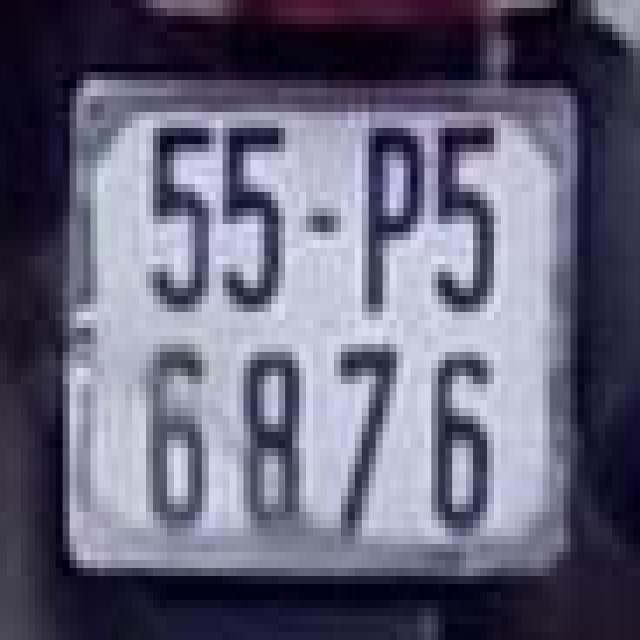5: (139, 116, 223, 316), (216, 112, 292, 328), (431, 116, 508, 324)
6: (424, 328, 501, 544), (136, 336, 212, 536)
7: (320, 336, 403, 552)
8: (237, 336, 313, 552)
P: (348, 116, 431, 324)
